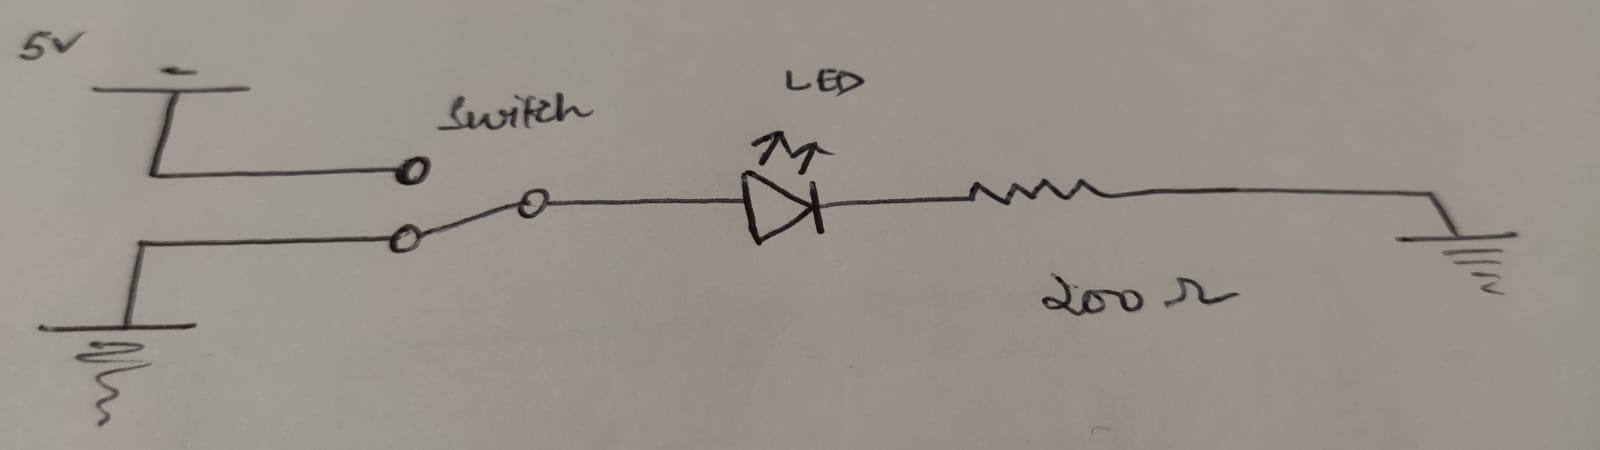diode.light_emitting: (735, 131, 829, 249)
gnd: (36, 319, 198, 429), (1398, 230, 1520, 298)
junction: (140, 162, 167, 188), (1414, 184, 1443, 207), (130, 234, 156, 258)
resistor: (961, 176, 1103, 207)
switch: (381, 152, 557, 257)
text: (1038, 267, 1244, 318), (434, 88, 596, 132), (781, 63, 869, 98), (16, 26, 86, 62)
voltage.dc: (92, 61, 252, 97)
